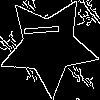I: (23, 21, 69, 38)
